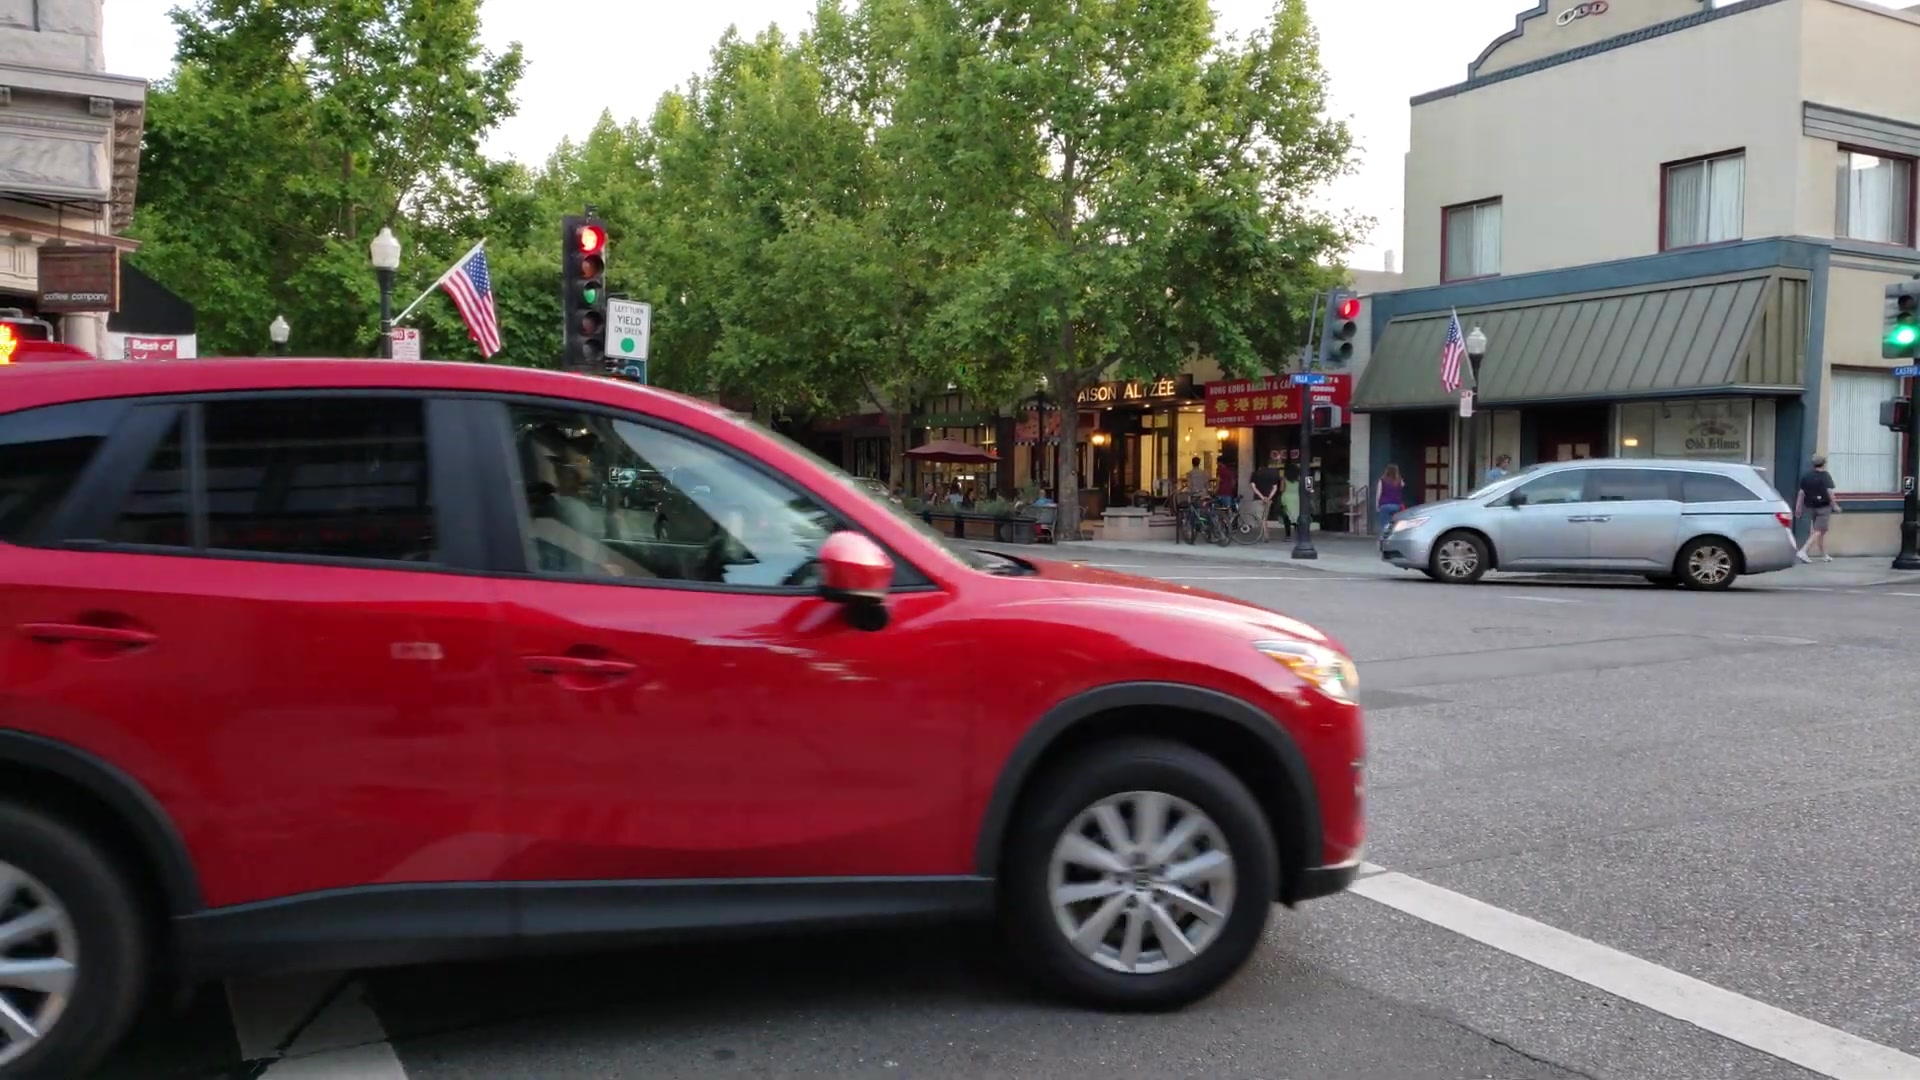vehicle: (1, 360, 1371, 1025), (1371, 462, 1801, 585)
